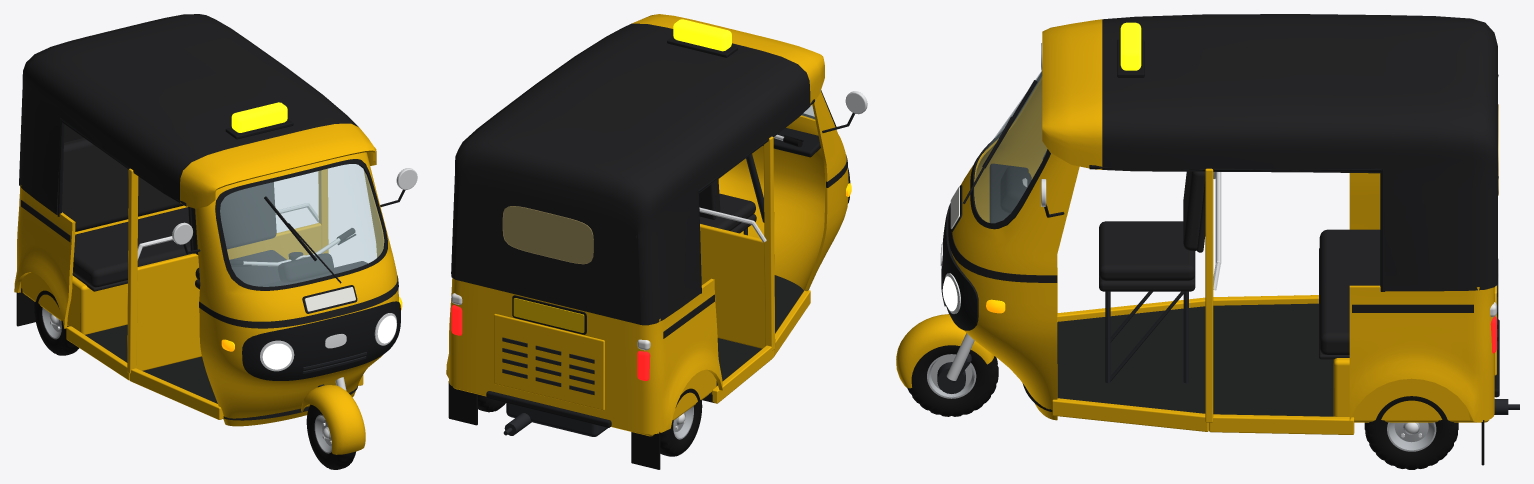
File: bajaj_yellow.glb
3 views of the same model, side by side, from view 1: azimuth 30°, elevation 25°; view 2: azimuth 150°, elevation 25°; view 3: azimuth 270°, elevation 25° (orthographic). The views are drawn at different scales.
Parts seen in each view (by area): view 1: Body, Steering, Wheel_F, Wheel_RL, Plate_Front; view 2: Body, Wheel_RL, Plate_Rear, Steering; view 3: Body, Wheel_RR, Wheel_F, Steering.
Part boxes in pixels (<box>): Body: <box>14,14,417,426</box>; Steering: <box>229,228,365,454</box>; Wheel_F: <box>306,404,355,469</box>; Wheel_RL: <box>34,290,79,355</box>; Plate_Front: <box>304,287,355,311</box>; Body: <box>446,14,867,469</box>; Wheel_RL: <box>660,388,702,456</box>; Plate_Rear: <box>513,298,584,332</box>; Steering: <box>746,134,803,222</box>; Body: <box>940,14,1519,465</box>; Wheel_RR: <box>1364,396,1458,469</box>; Wheel_F: <box>907,345,998,416</box>; Steering: <box>896,151,1046,393</box>.
Bounding box in the file's own units: 1.52 × 1.81 × 2.71.
